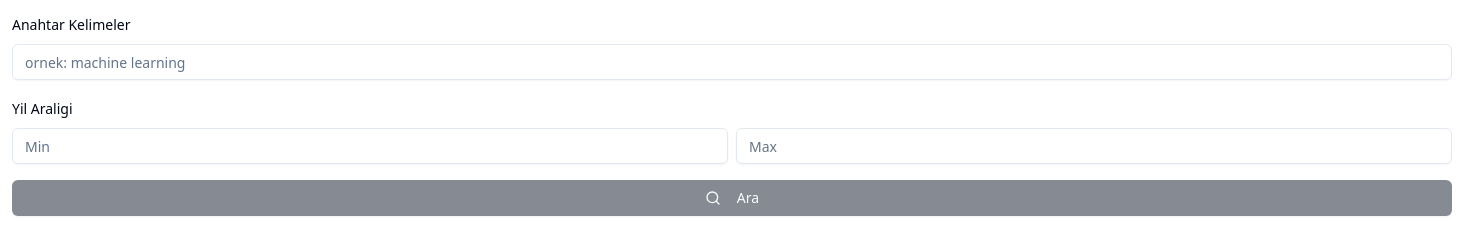
SearchForm › enables the search button when query has text
The image size is (1464, 234).
Type "test" into the field with placeholder "ornek: machine learning". click: (732,62)
box: top-left (12, 44), bottom-right (1452, 80)
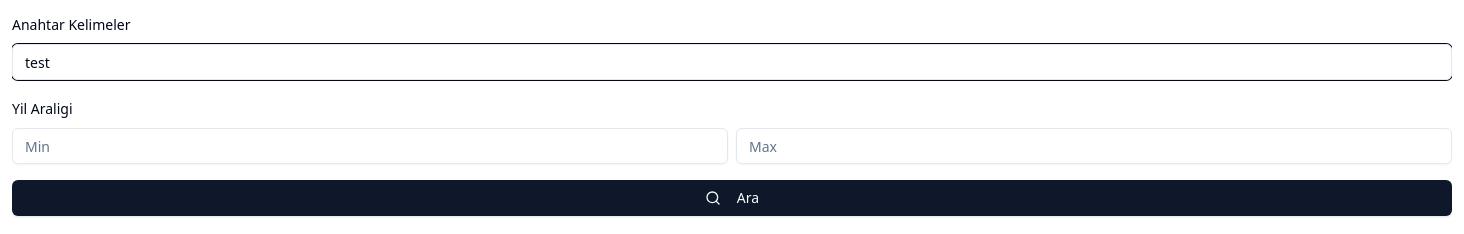
Now the button "Ara" is enabled, box top-left (12, 180), bottom-right (1452, 216)
